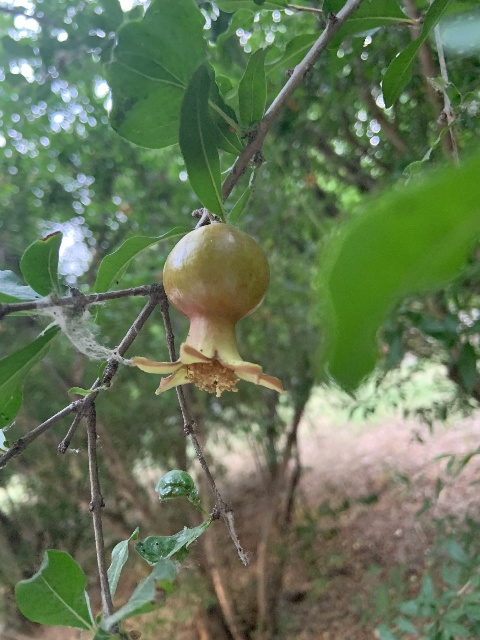mid-growth: (129, 222, 284, 399)
